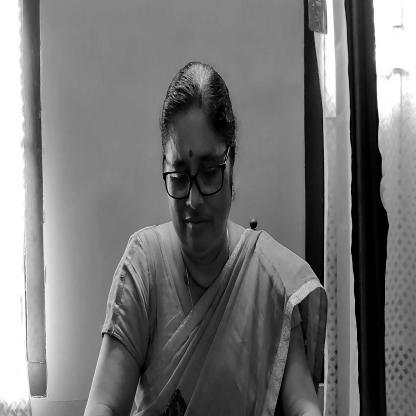Normal: (156, 68, 242, 258)
